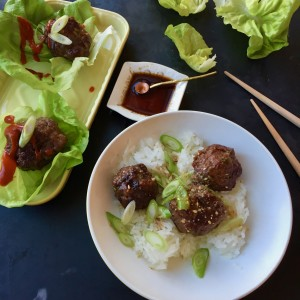chopped lettuce: (1, 17, 49, 117), (222, 1, 293, 54), (168, 25, 216, 66)
meatballs: (11, 122, 59, 166), (195, 145, 238, 189), (173, 191, 216, 235), (47, 17, 89, 59), (113, 168, 157, 204)
plain rice: (119, 209, 256, 273)
